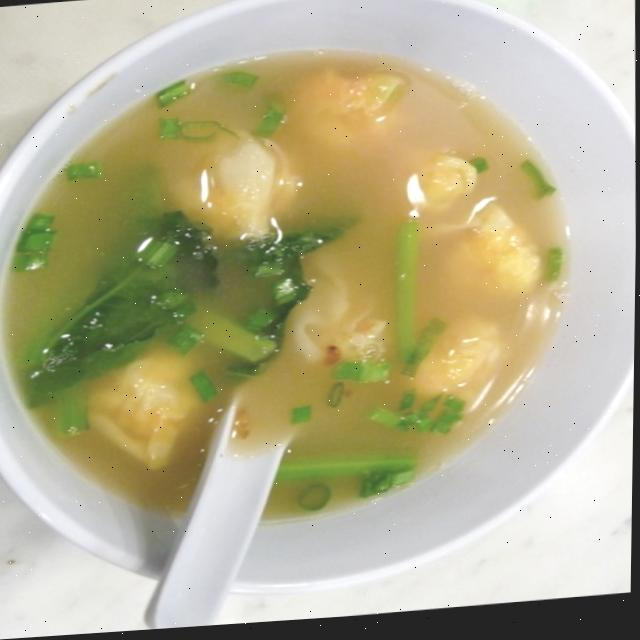汤锅炖物: (9, 28, 596, 580)
